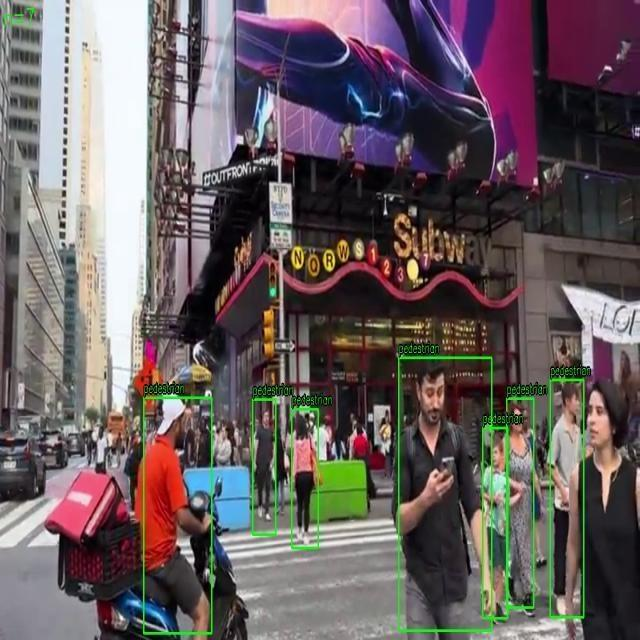person: (398, 357, 492, 631), (144, 397, 212, 634), (550, 380, 584, 618), (506, 398, 534, 608), (482, 428, 508, 618), (292, 408, 318, 548), (252, 399, 276, 535)
